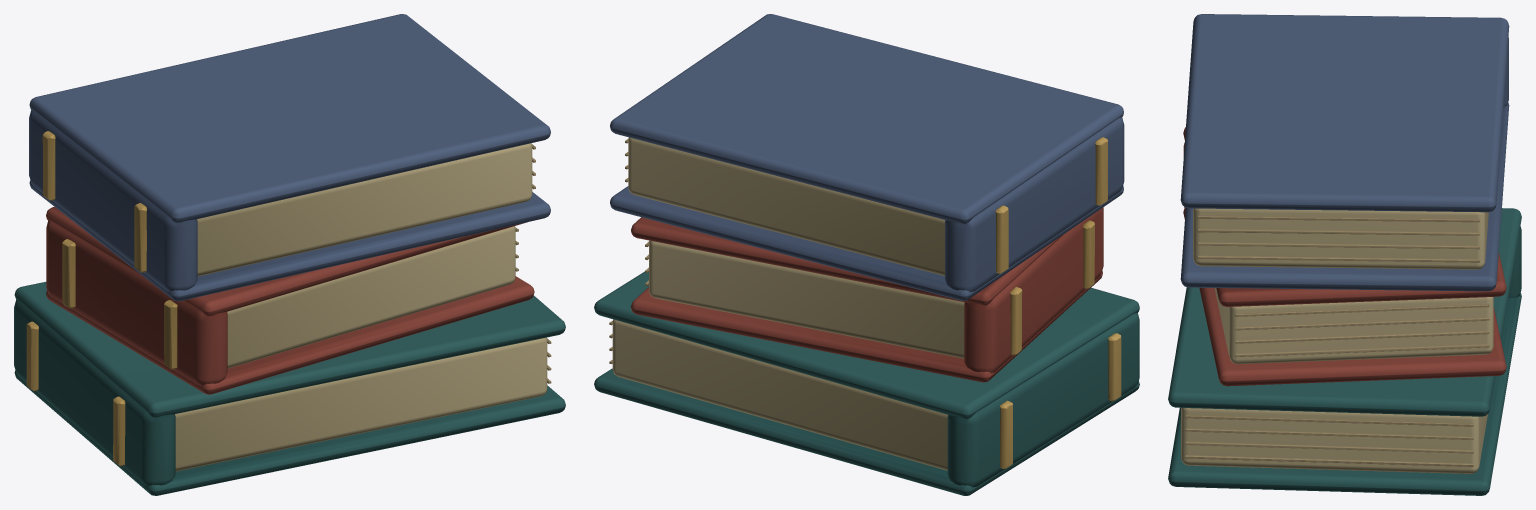
File: fw_books_stack.glb
3 views of the same model, side by side, from view 1: azimuth 30°, elevation 25°; view 2: azimuth 150°, elevation 25°; view 3: azimuth 270°, elevation 25° (orthographic). The views are drawn at different scales.
Visible parts, largest first — view 1: body; view 2: body; view 3: body.
Part boxes in pixels (x1=…): body: x1=14, y1=14, x2=565, y2=495; body: x1=594, y1=14, x2=1139, y2=495; body: x1=1168, y1=14, x2=1521, y2=495.
Bounding box in the file's own units: 0.7414 × 0.475 × 0.5261.
